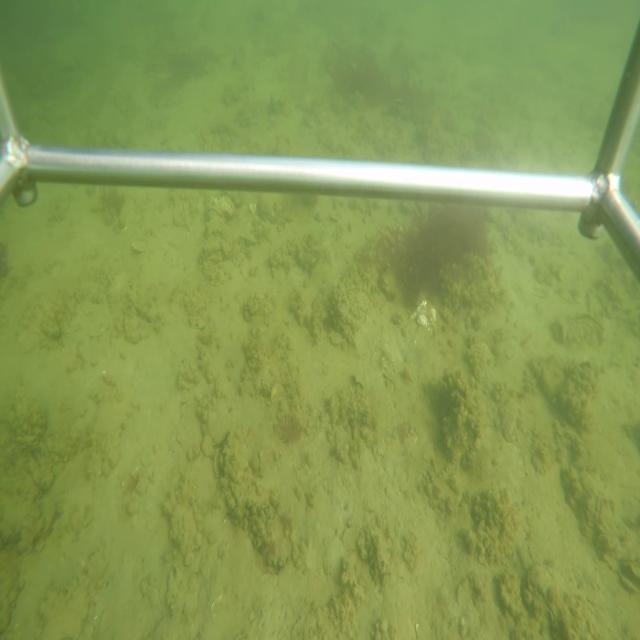Oyster-Open: (614, 554, 640, 598)
